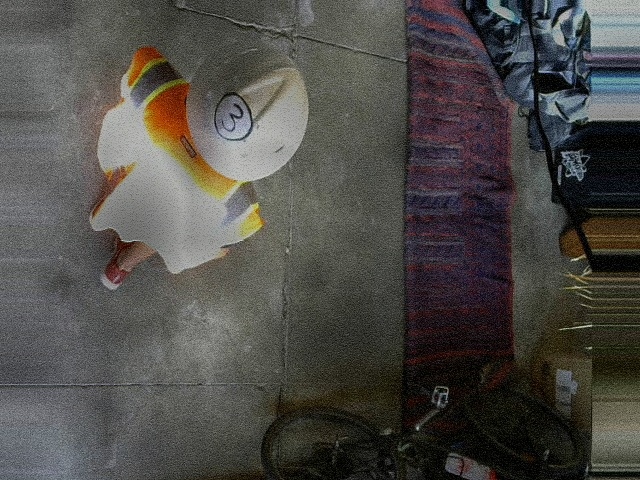three: (214, 92, 253, 142)
